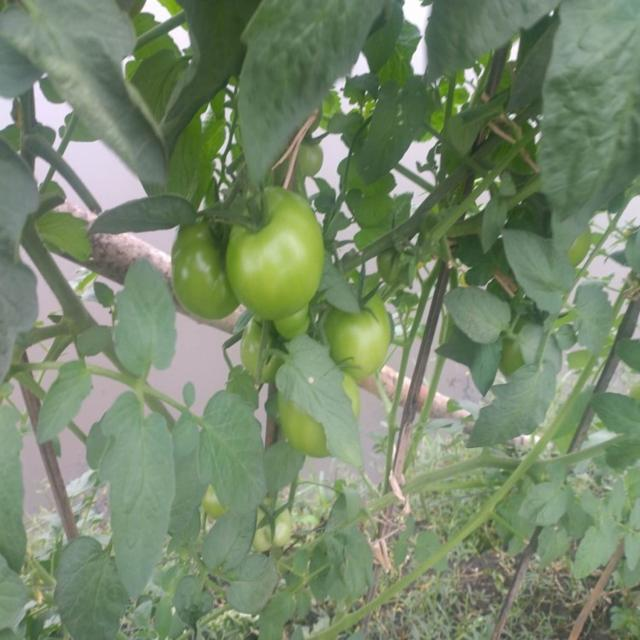tomato: (233, 185, 322, 322), (169, 219, 234, 323), (327, 287, 392, 377), (273, 395, 330, 460), (257, 503, 297, 552), (375, 246, 411, 278), (298, 139, 327, 176), (573, 230, 593, 263)
